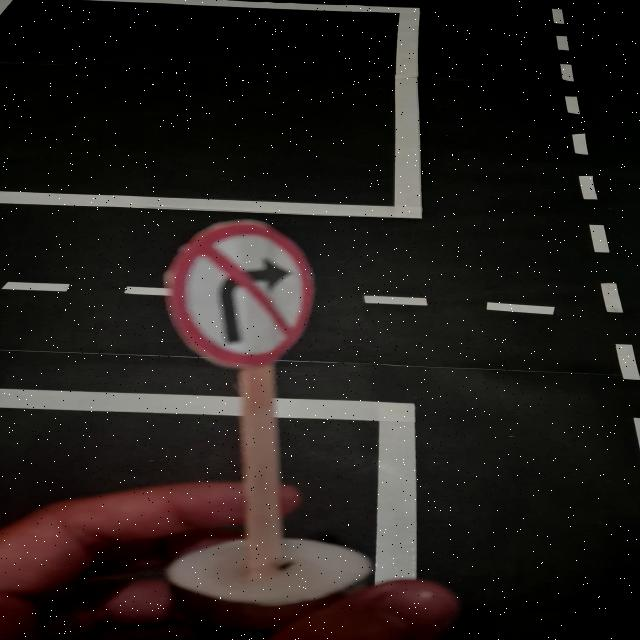Dilarang Belok Kanan: (167, 220, 316, 368)
